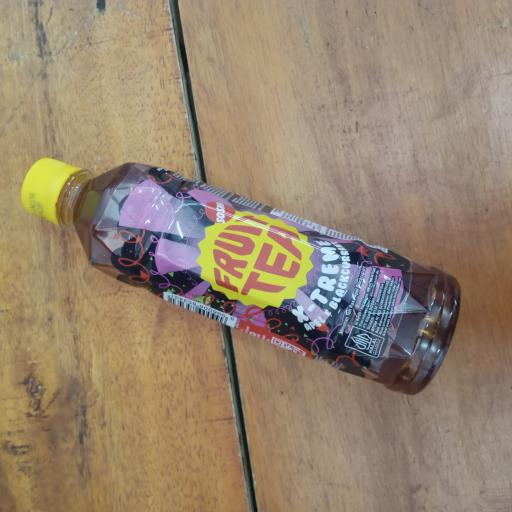Fruit Tea Apple BlackCurrent: (0, 148, 471, 401)
